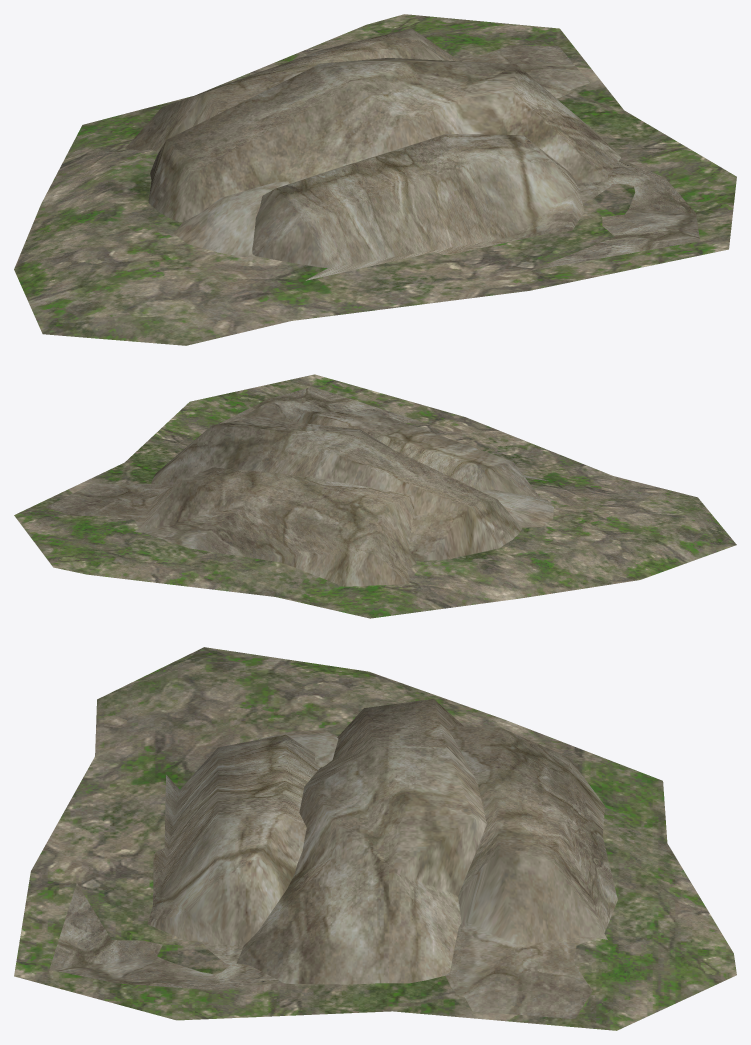
File: rocklowa.FBX
The picture shows the model from 3 angles, top to bottom: view 1: azimuth 30°, elevation 25°; view 2: azimuth 150°, elevation 25°; view 3: azimuth 270°, elevation 25°; orthographic projection. The views are drawn at different scales.
Visible parts, largest first — view 1: C1SNROCKLOW_H; view 2: C1SNROCKLOW_H; view 3: C1SNROCKLOW_H.
Part boxes in pixels (box(x1,y1,x2,y2)): C1SNROCKLOW_H: box(14, 14, 736, 345); C1SNROCKLOW_H: box(14, 374, 736, 618); C1SNROCKLOW_H: box(14, 647, 736, 1030).
Size of the model in its own units: 16.56 by 2.31 by 13.19.
2 materials, 2 textured.
